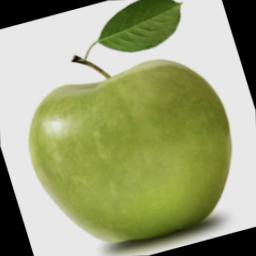Apple Unripe: (18, 7, 249, 256)
